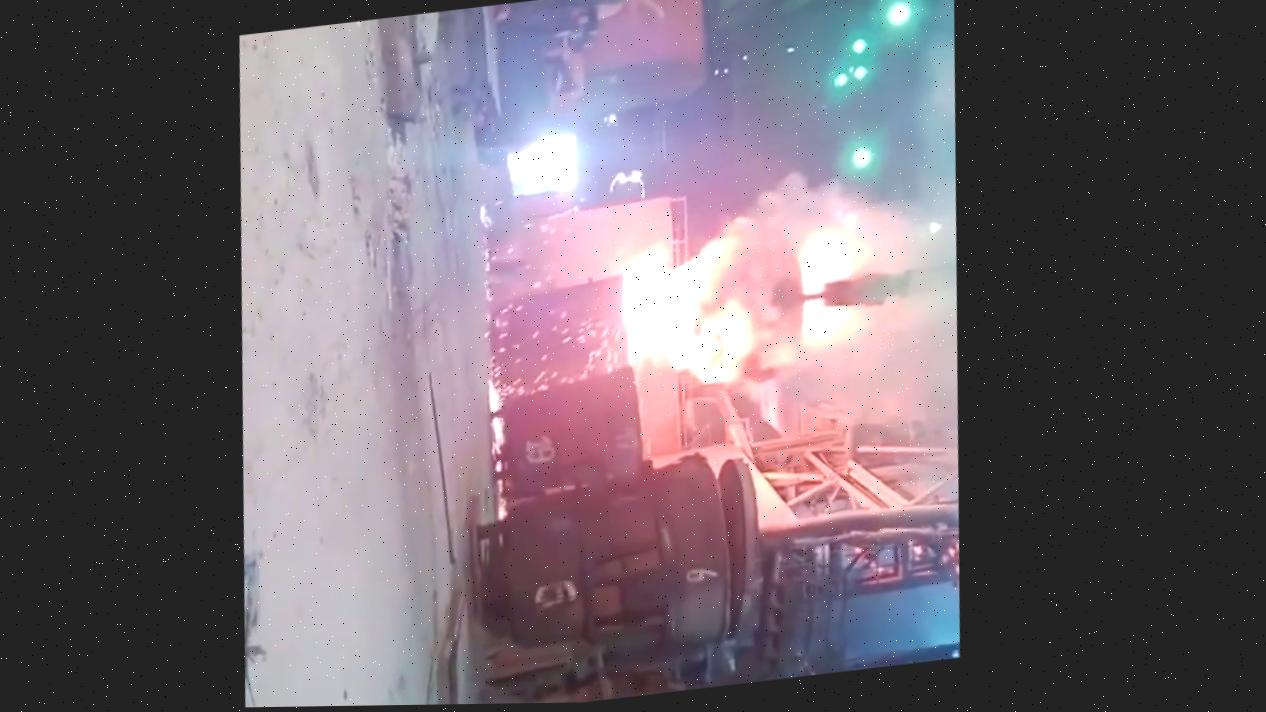fire: (497, 71, 955, 464)
